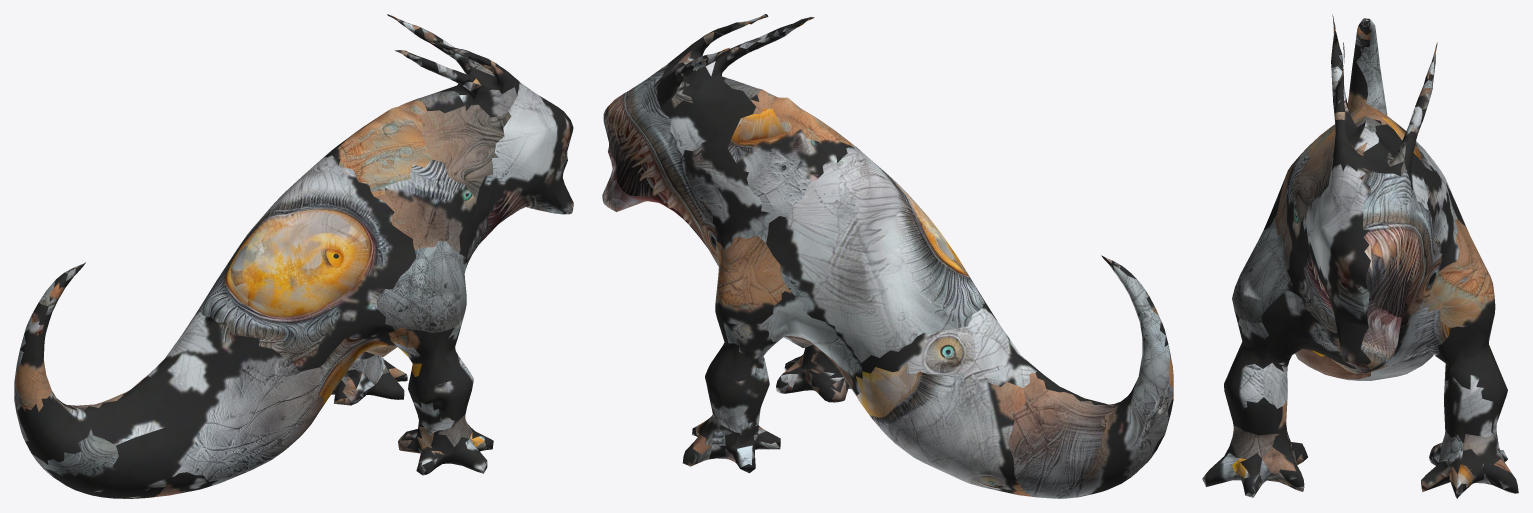
Rendered from alien.obj.
3 views of the same model, side by side, from view 1: azimuth 30°, elevation 25°; view 2: azimuth 150°, elevation 25°; view 3: azimuth 270°, elevation 25° (orthographic). The views are drawn at different scales.
Visible parts, largest first — view 1: Mesh_0; view 2: Mesh_0; view 3: Mesh_0.
Boxes of the visible parts, x1,y1,x2,y2 form: Mesh_0: (14,14,573,498); Mesh_0: (602,14,1173,498); Mesh_0: (1202,14,1518,498).
Size of the model in its own units: 1.2 by 0.8223 by 0.511.
